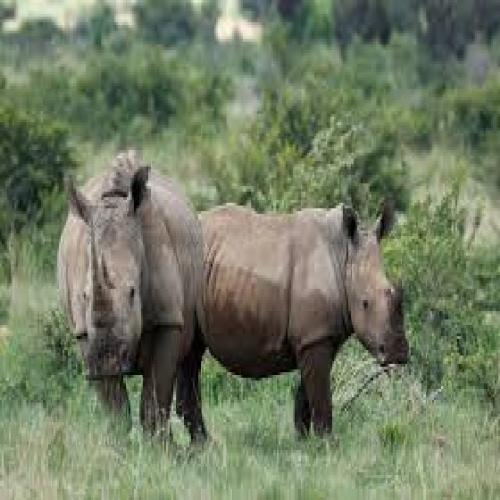rhino-endangered: (174, 204, 408, 448), (57, 160, 197, 438)
